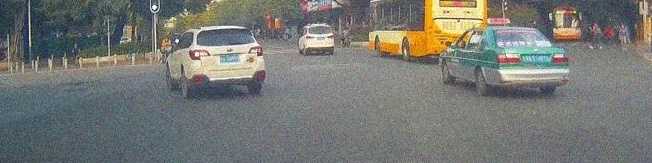L_light: (189, 50, 211, 61), (496, 53, 521, 62), (306, 36, 314, 39)
R_light: (248, 46, 263, 57), (551, 53, 568, 62), (327, 35, 334, 38)
T_light: (511, 30, 521, 33), (221, 29, 231, 31), (316, 26, 323, 28)
day-left: (189, 26, 266, 98)
day-no: (492, 26, 569, 94), (306, 24, 334, 55)
